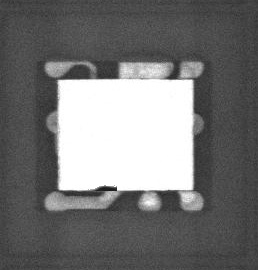DIE_BROKEN: (90, 183, 119, 192)
